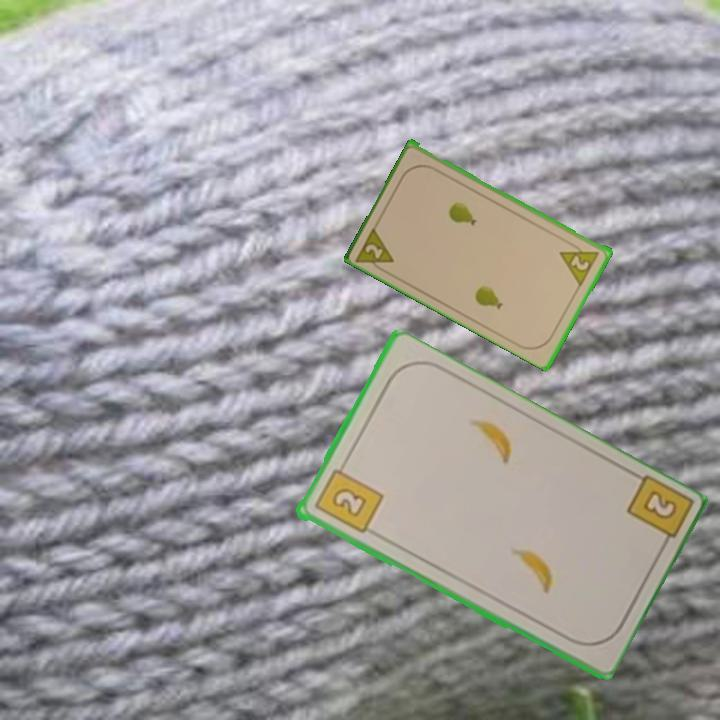2b: (310, 458, 386, 537), (622, 472, 692, 555)
2p: (353, 222, 398, 277), (556, 238, 603, 287)
